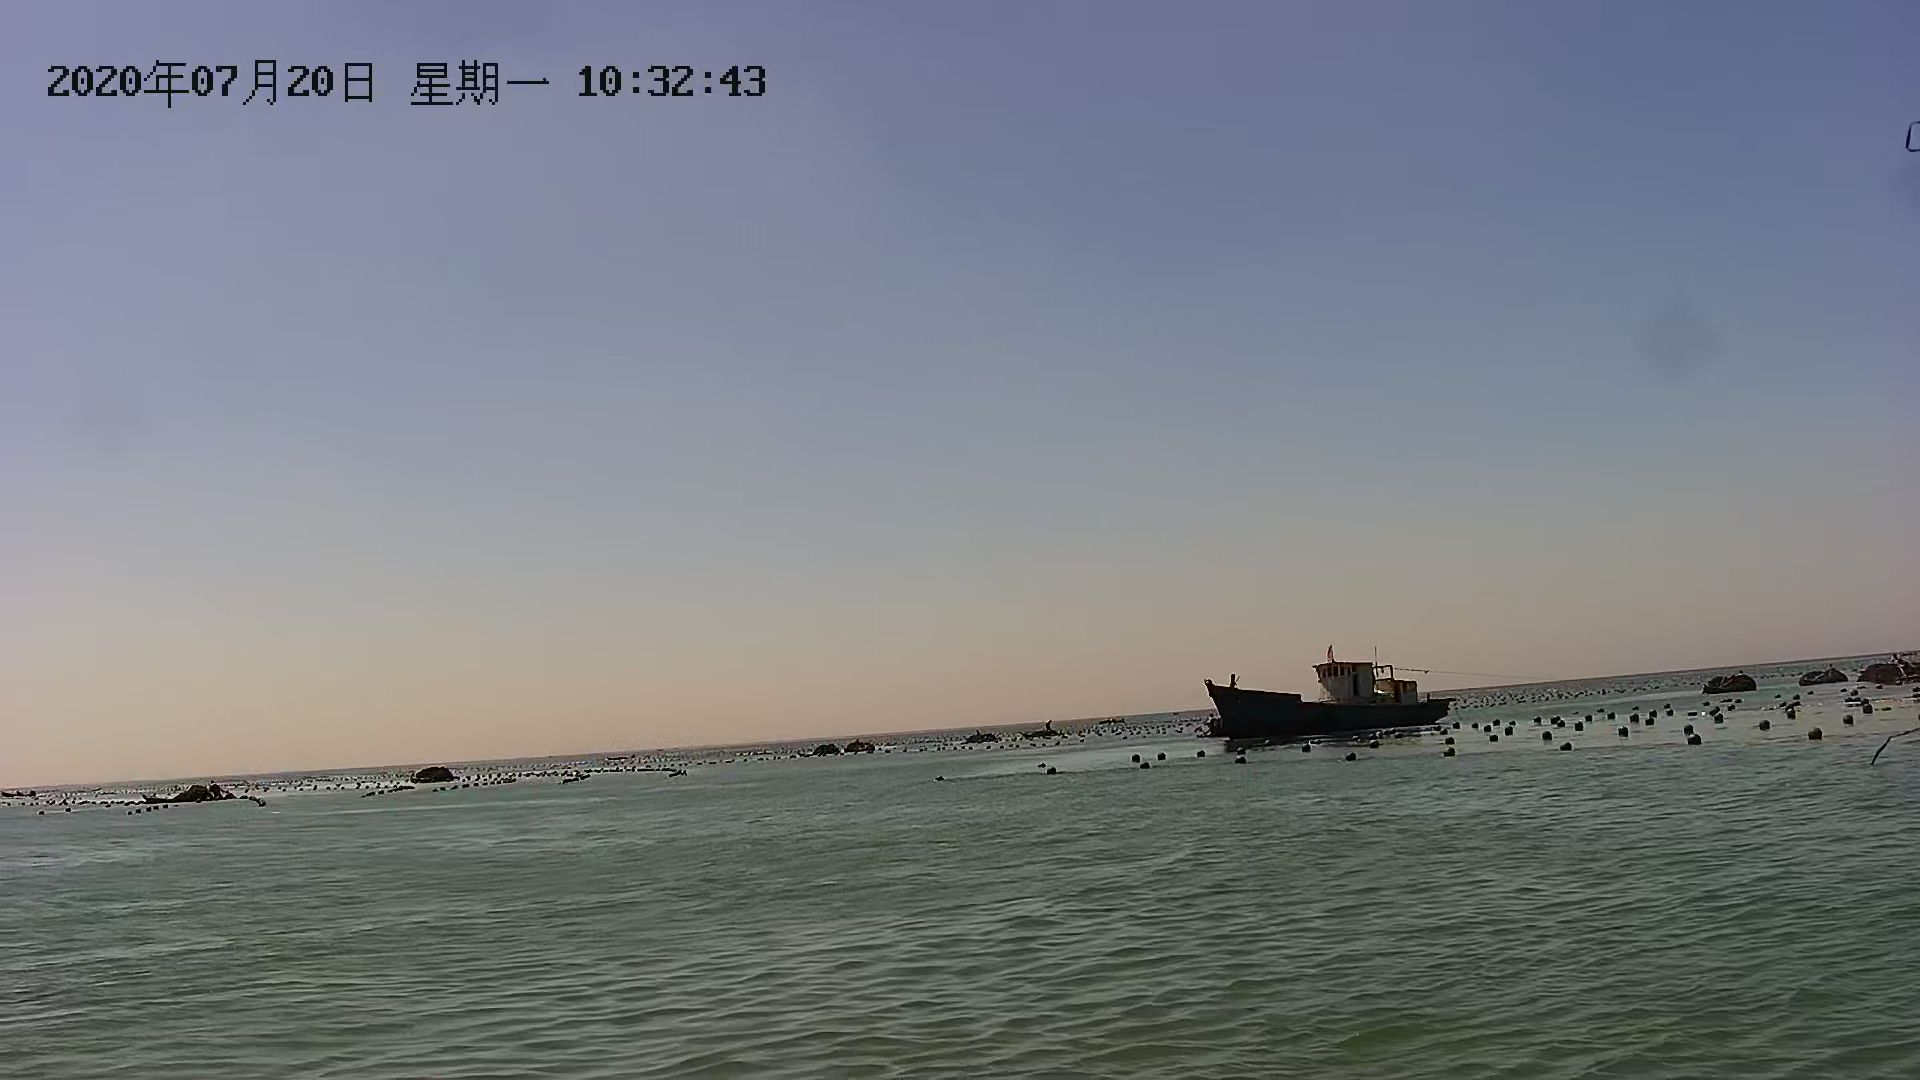ball: (1687, 731, 1706, 754)
rubbish: (157, 767, 240, 811), (804, 732, 884, 764), (1862, 646, 1916, 688), (1695, 661, 1762, 694), (404, 760, 454, 789), (949, 723, 1007, 746), (1800, 661, 1844, 692)
ship: (1203, 651, 1457, 736), (1804, 727, 1829, 748)
